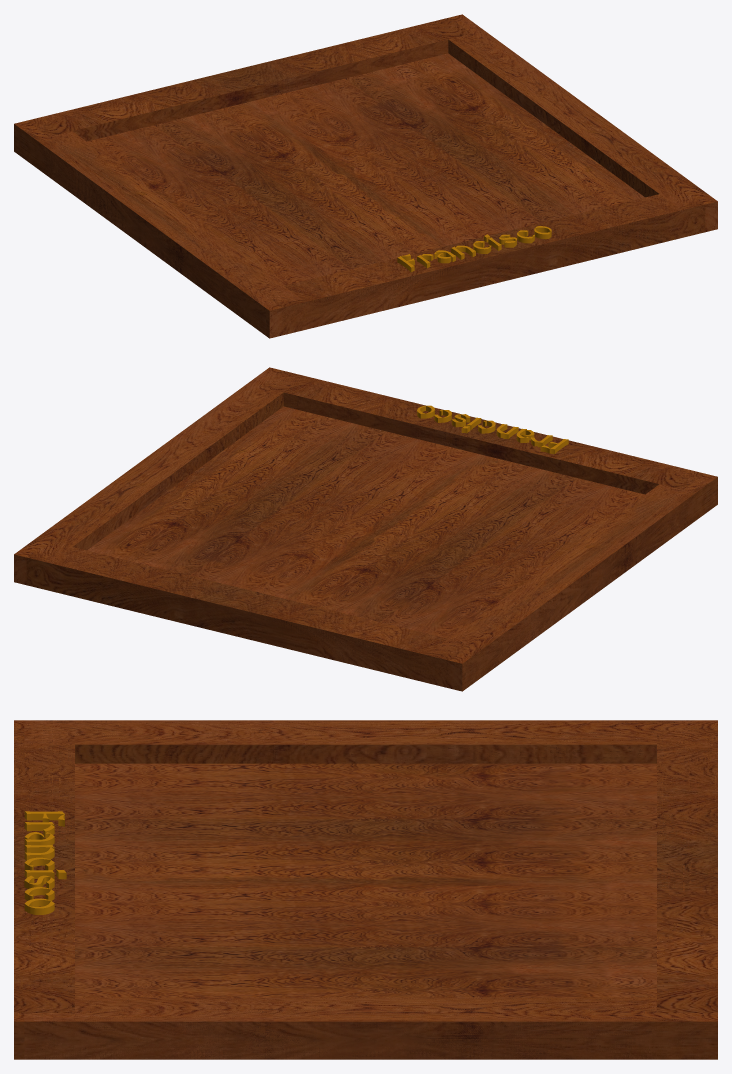
Rendered from monkframe6.glb.
The picture shows the model from 3 angles, top to bottom: view 1: azimuth 30°, elevation 25°; view 2: azimuth 150°, elevation 25°; view 3: azimuth 270°, elevation 25°; orthographic projection. The views are drawn at different scales.
Parts seen in each view (by area): view 1: Plane, Cube, William Dafilo; view 2: Plane, Cube, William Dafilo; view 3: Plane, Cube, William Dafilo.
Part boxes in pixels (bbox=[...]): Plane: bbox=[87, 53, 644, 285]; Cube: bbox=[14, 14, 717, 338]; William Dafilo: bbox=[397, 226, 551, 272]; Plane: bbox=[87, 406, 644, 638]; Cube: bbox=[14, 367, 717, 691]; William Dafilo: bbox=[417, 405, 568, 453]; Plane: bbox=[75, 763, 656, 997]; Cube: bbox=[14, 720, 717, 1059]; William Dafilo: bbox=[24, 811, 66, 914].
Bounding box in the file's own units: 0.6936 × 0.0482 × 0.6847.
Materials: 3 (2 with a texture image).
